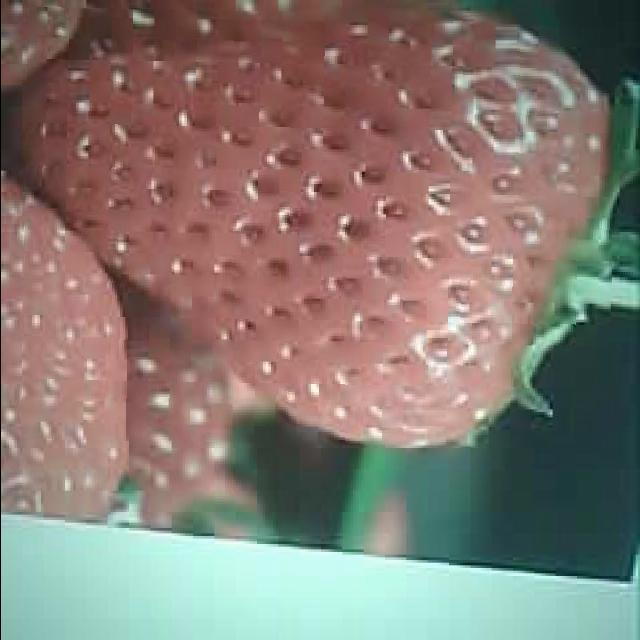strawberry: (21, 9, 613, 447)
